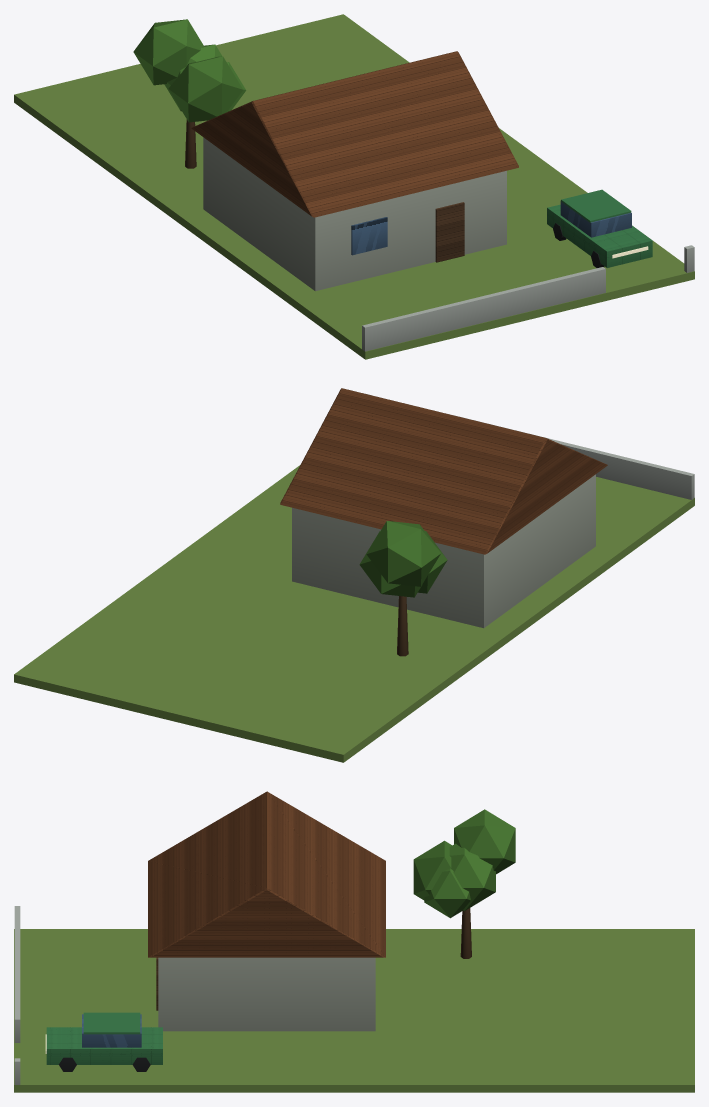
File: casa_2.glb
The picture shows the model from 3 angles, top to bottom: view 1: azimuth 30°, elevation 25°; view 2: azimuth 150°, elevation 25°; view 3: azimuth 270°, elevation 25°; orthographic projection. The views are drawn at different scales.
Parts seen in each view (by area): view 1: casa_2_liso, casa_2; view 2: casa_2_liso, casa_2; view 3: casa_2_liso, casa_2.
Part boxes in pixels (box(x1,y1,x2,y2)): casa_2_liso: box(14, 14, 694, 359); casa_2: box(191, 51, 652, 267); casa_2_liso: box(14, 393, 694, 762); casa_2: box(280, 388, 607, 554); casa_2_liso: box(14, 809, 694, 1092); casa_2: box(45, 791, 385, 1064).
Bounding box in the file's own units: 13 × 5.99 × 24.
5 materials, 3 textured.
